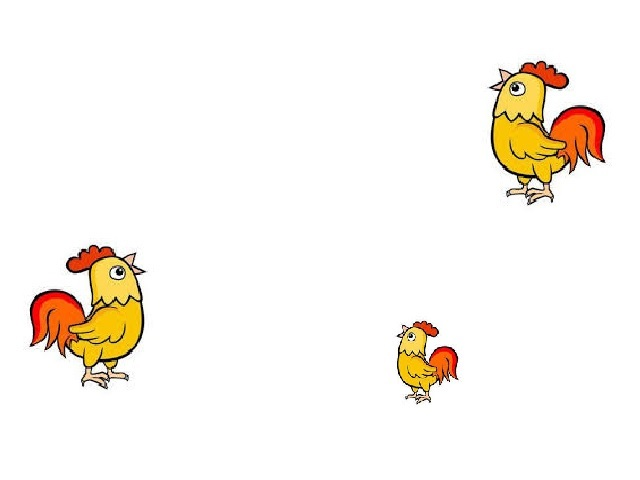crown: (524, 59, 570, 92), (67, 249, 107, 266), (416, 318, 439, 335)
eyes: (508, 79, 528, 94), (108, 263, 123, 280), (410, 332, 417, 343)
feet: (507, 180, 556, 203), (76, 370, 134, 389), (408, 392, 433, 407)
tail: (551, 107, 607, 176), (29, 286, 84, 355), (432, 348, 458, 383)
